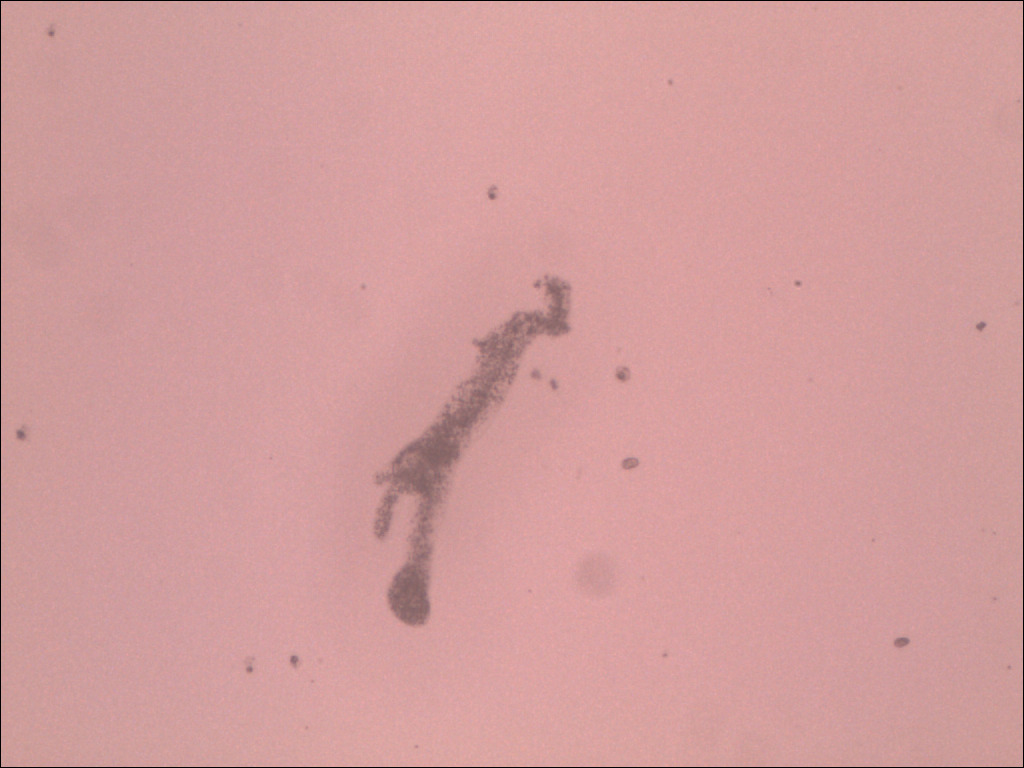amoeba: (361, 266, 597, 636)
